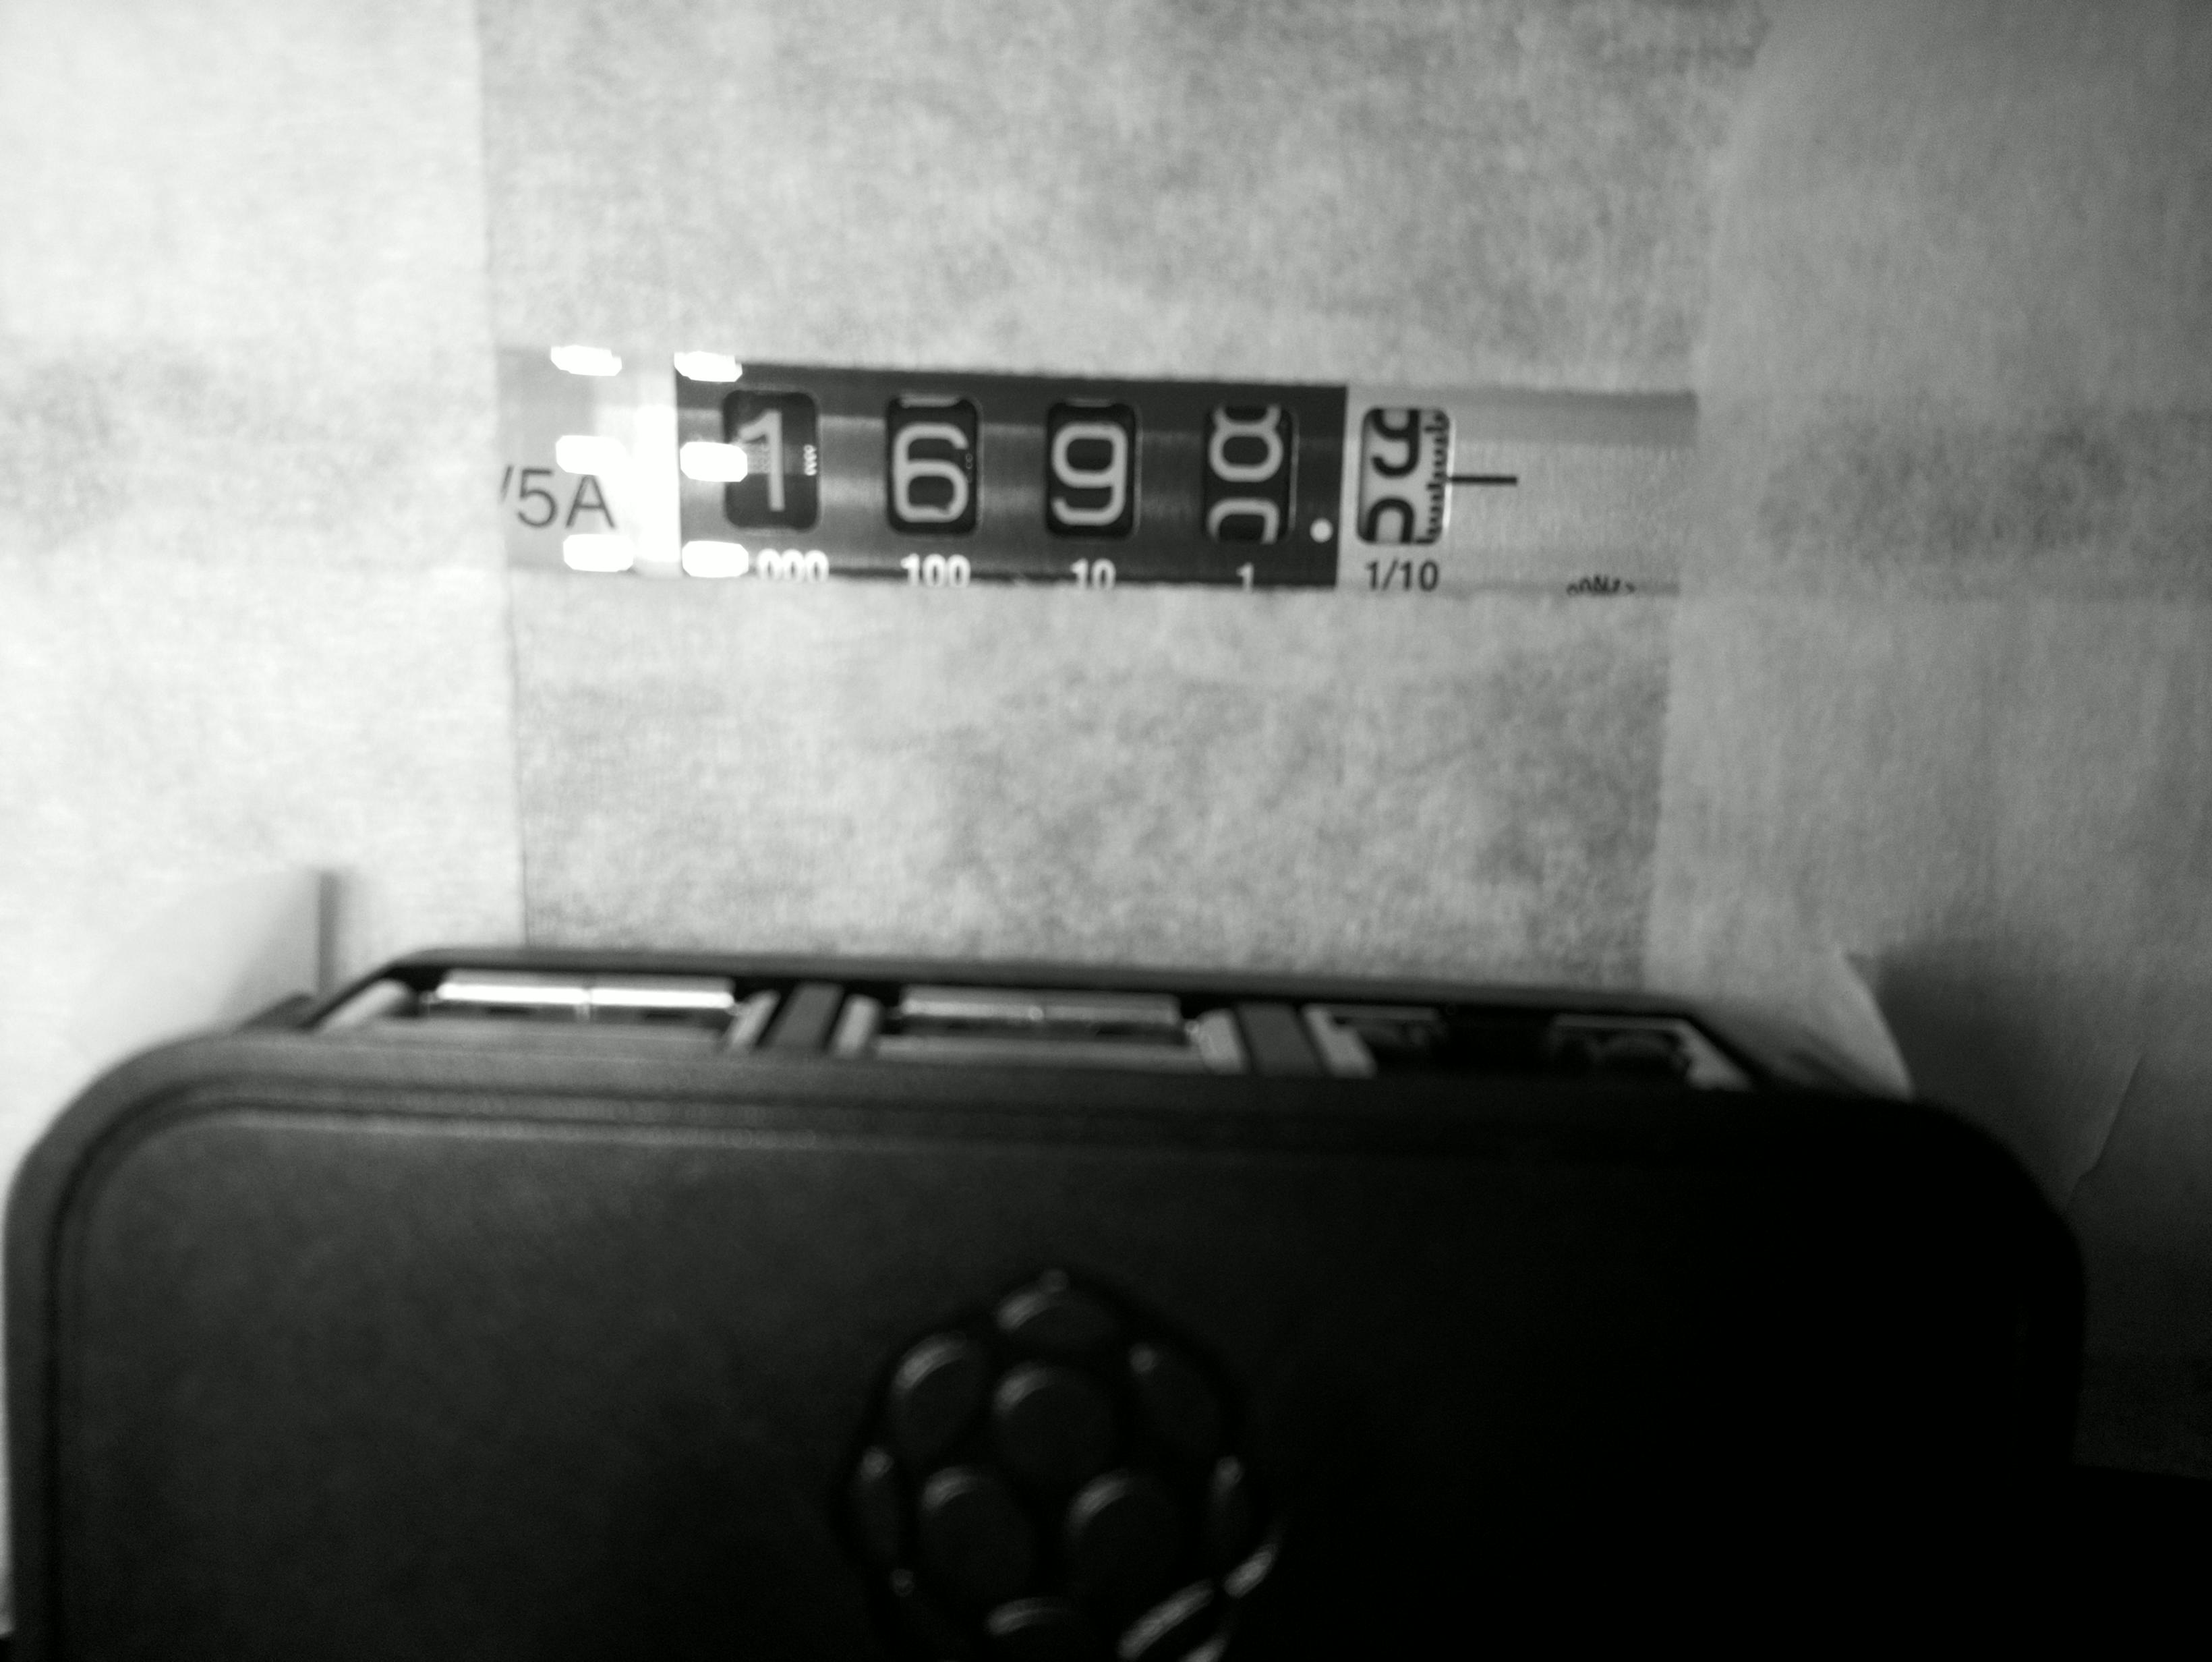meter_box: (730, 337, 1456, 609)
